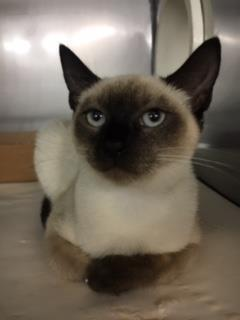siamese: (56, 26, 226, 201)
